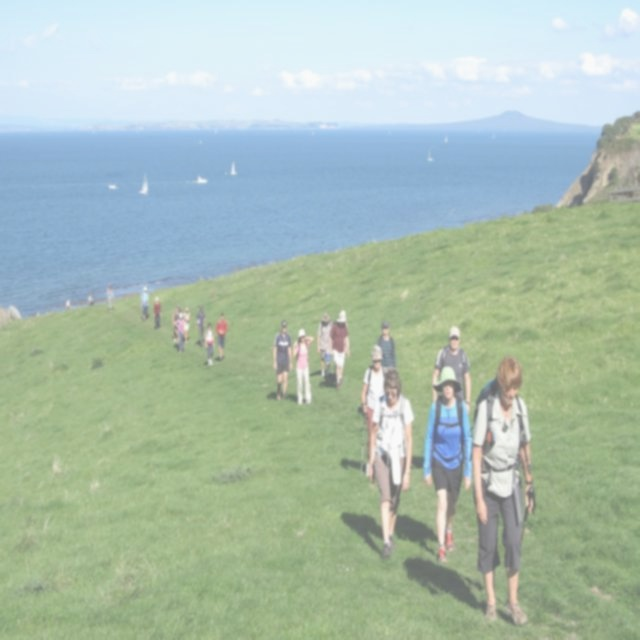pessoa: (467, 354, 538, 628), (338, 508, 492, 616), (422, 364, 474, 567), (368, 365, 416, 561), (360, 343, 388, 478), (431, 324, 471, 416), (328, 311, 351, 391), (272, 320, 294, 402), (292, 328, 314, 406), (376, 320, 398, 370), (333, 309, 348, 379), (317, 313, 333, 378), (215, 312, 228, 364), (173, 312, 186, 354), (204, 322, 215, 366), (195, 305, 206, 347), (174, 306, 184, 349), (140, 286, 150, 322), (182, 306, 191, 344), (153, 296, 161, 330), (172, 306, 179, 342), (106, 283, 114, 313), (88, 292, 94, 306), (66, 298, 70, 310)
